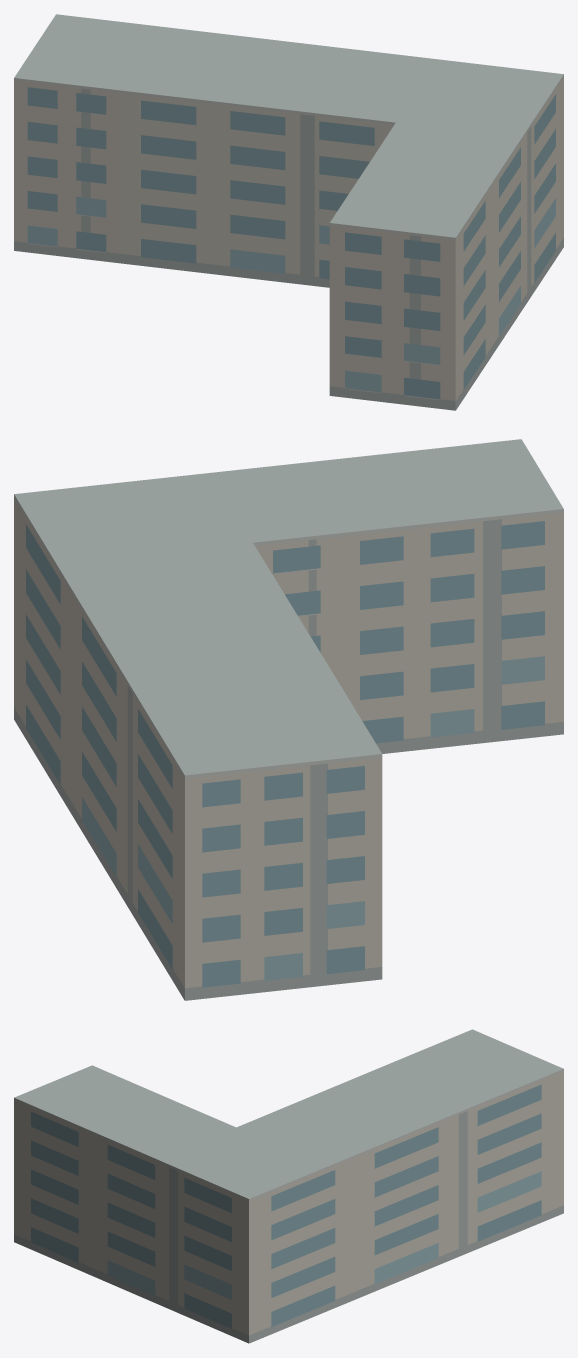
Rendered from residential-5079a95a-b269-44cd-8703-922b6fc115db.glb.
The picture shows the model from 3 angles, top to bottom: view 1: azimuth 30°, elevation 25°; view 2: azimuth 150°, elevation 25°; view 3: azimuth 270°, elevation 25°; orthographic projection. The views are drawn at different scales.
Visible parts, largest first — view 1: residential-5079a95a-b269-44cd-8703-922b6fc115db.tmp; view 2: residential-5079a95a-b269-44cd-8703-922b6fc115db.tmp; view 3: residential-5079a95a-b269-44cd-8703-922b6fc115db.tmp.
Part boxes in pixels (left/top/right/bottom): residential-5079a95a-b269-44cd-8703-922b6fc115db.tmp: left=14, top=14, right=563, bottom=410; residential-5079a95a-b269-44cd-8703-922b6fc115db.tmp: left=14, top=439, right=563, bottom=1000; residential-5079a95a-b269-44cd-8703-922b6fc115db.tmp: left=14, top=1029, right=563, bottom=1343.
Bounding box in the file's own units: 38.42 × 15.25 × 52.6.
